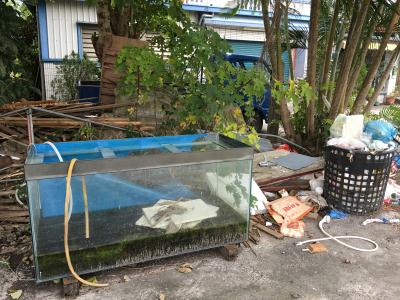aquarium: (24, 131, 254, 283)
plastic_bag: (364, 117, 397, 142)
